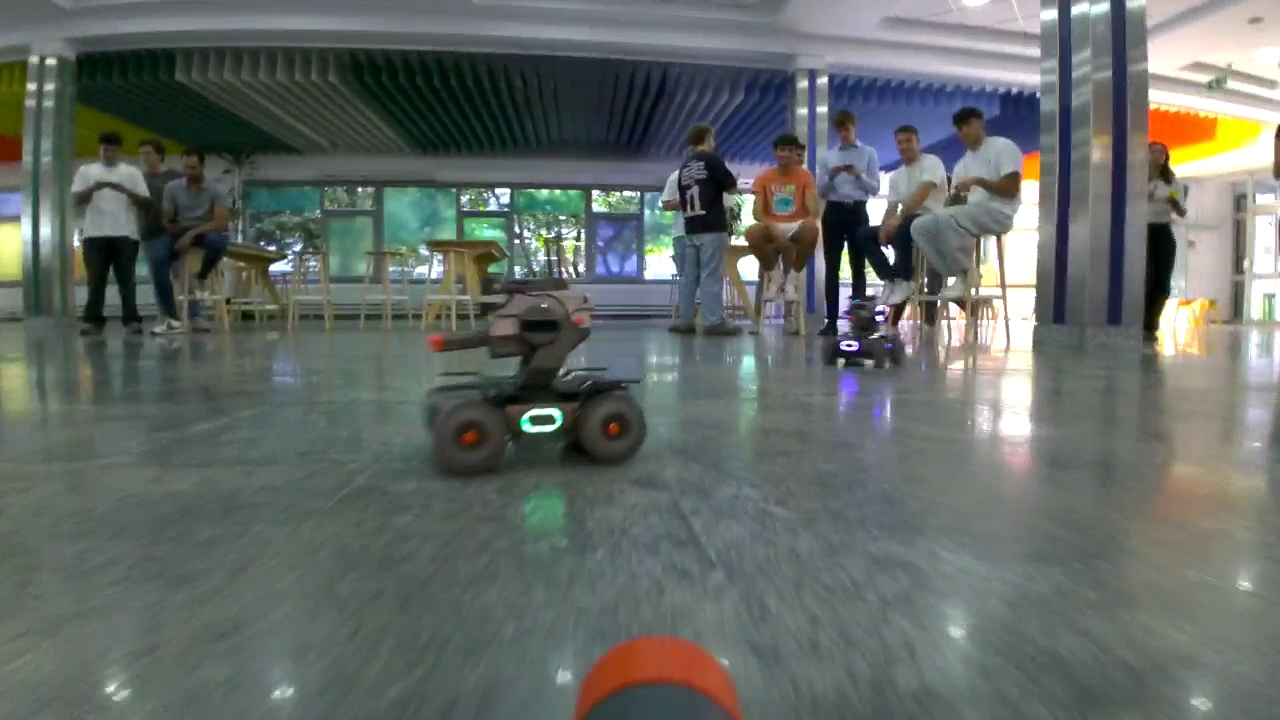robot: (424, 277, 647, 477), (821, 295, 907, 371)
